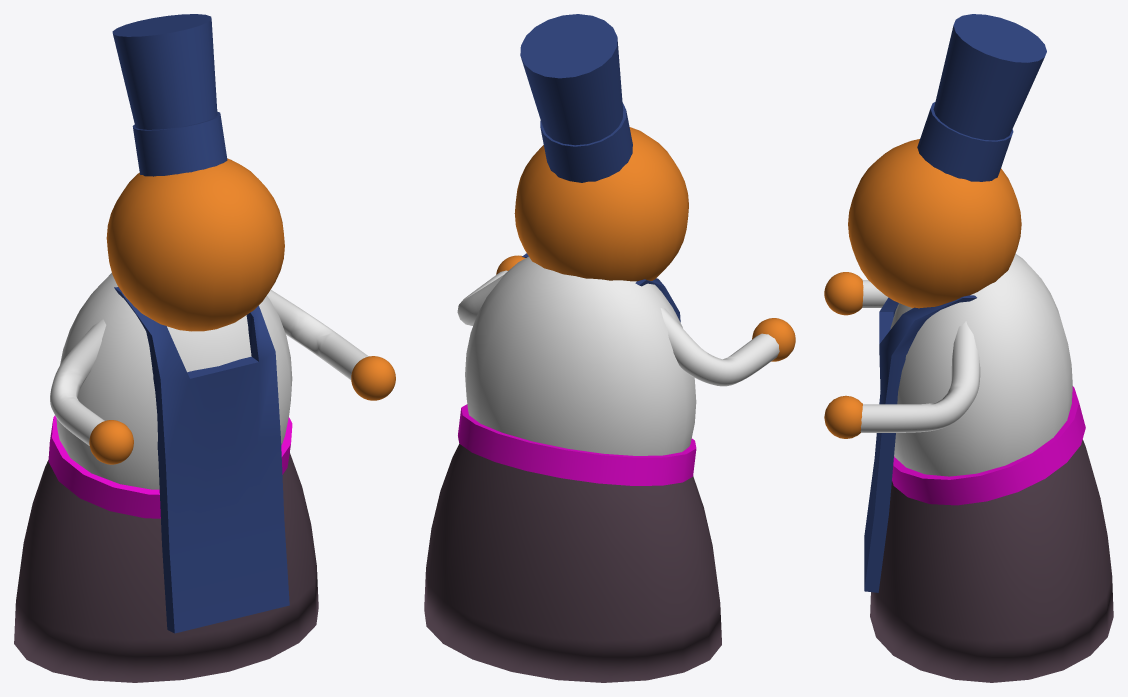
File: bluePlayer_4.fbx
3 views of the same model, side by side, from view 1: azimuth 30°, elevation 25°; view 2: azimuth 150°, elevation 25°; view 3: azimuth 270°, elevation 25° (orthographic). The views are drawn at different scales.
Parts seen in each view (by area): view 1: skirt, apron, head, chest, pCylinder1, arm (×2), pCylinder2, belt, pSphere1 (×2); view 2: skirt, chest, head, pCylinder1, belt, arm (×2), pCylinder2, pSphere1; view 3: skirt, chest, head, pCylinder1, apron, belt, arm (×2), pCylinder2, pSphere1 (×2).
Boxes of the visible parts, left/top/right/bottom form: skirt: left=14, top=452, right=318, bottom=682; apron: left=114, top=287, right=289, bottom=633; head: left=106, top=158, right=284, bottom=331; chest: left=56, top=273, right=292, bottom=489; pCylinder1: left=112, top=14, right=217, bottom=129; arm (×2): left=50, top=290, right=368, bottom=445; pCylinder2: left=132, top=111, right=227, bottom=176; belt: left=48, top=415, right=292, bottom=518; pSphere1 (×2): left=89, top=356, right=395, bottom=464; skirt: left=424, top=444, right=721, bottom=682; chest: left=465, top=256, right=696, bottom=455; head: left=514, top=127, right=688, bottom=281; pCylinder1: left=520, top=14, right=623, bottom=145; belt: left=458, top=404, right=696, bottom=485; arm (×2): left=457, top=270, right=779, bottom=386; pCylinder2: left=540, top=103, right=632, bottom=182; pSphere1: left=752, top=318, right=795, bottom=361; skirt: left=870, top=439, right=1113, bottom=682; chest: left=890, top=253, right=1072, bottom=476; head: left=848, top=139, right=1021, bottom=308; pCylinder1: left=933, top=14, right=1046, bottom=140; apron: left=864, top=295, right=976, bottom=592; belt: left=892, top=386, right=1085, bottom=505; arm (×2): left=860, top=280, right=980, bottom=432; pCylinder2: left=917, top=102, right=1013, bottom=181; pSphere1 (×2): left=824, top=272, right=863, bottom=438.
Bounding box in the file's own units: 23.24 × 45.1 × 20.
